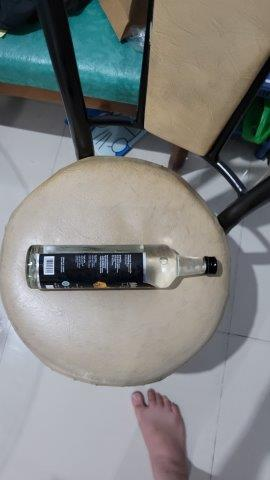botolkaca: (24, 244, 220, 291)
